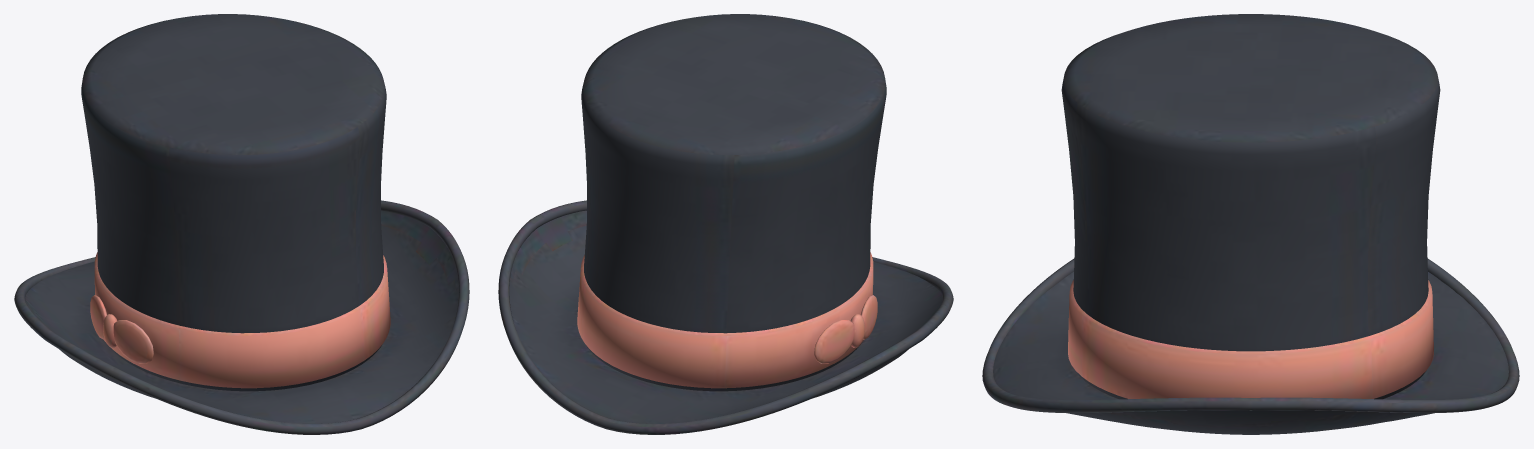
The model's file is hat_top.glb.
The picture shows the model from 3 angles, left to right: view 1: azimuth 30°, elevation 25°; view 2: azimuth 150°, elevation 25°; view 3: azimuth 270°, elevation 25°; orthographic projection. The views are drawn at different scales.
Parts seen in each view (by area): view 1: top-hat_body; view 2: top-hat_body; view 3: top-hat_body.
Boxes of the visible parts, x1=… form: top-hat_body: x1=14, y1=14, x2=469, y2=434; top-hat_body: x1=498, y1=14, x2=953, y2=434; top-hat_body: x1=982, y1=14, x2=1519, y2=434.
Size of the model in its own units: 0.2411 by 0.1587 by 0.25.
1 material, 1 textured.
